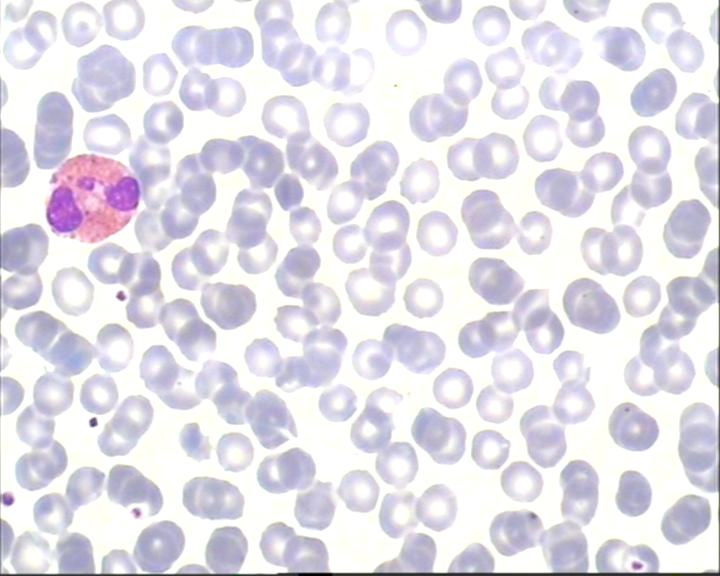eosi: (34, 149, 140, 248)
